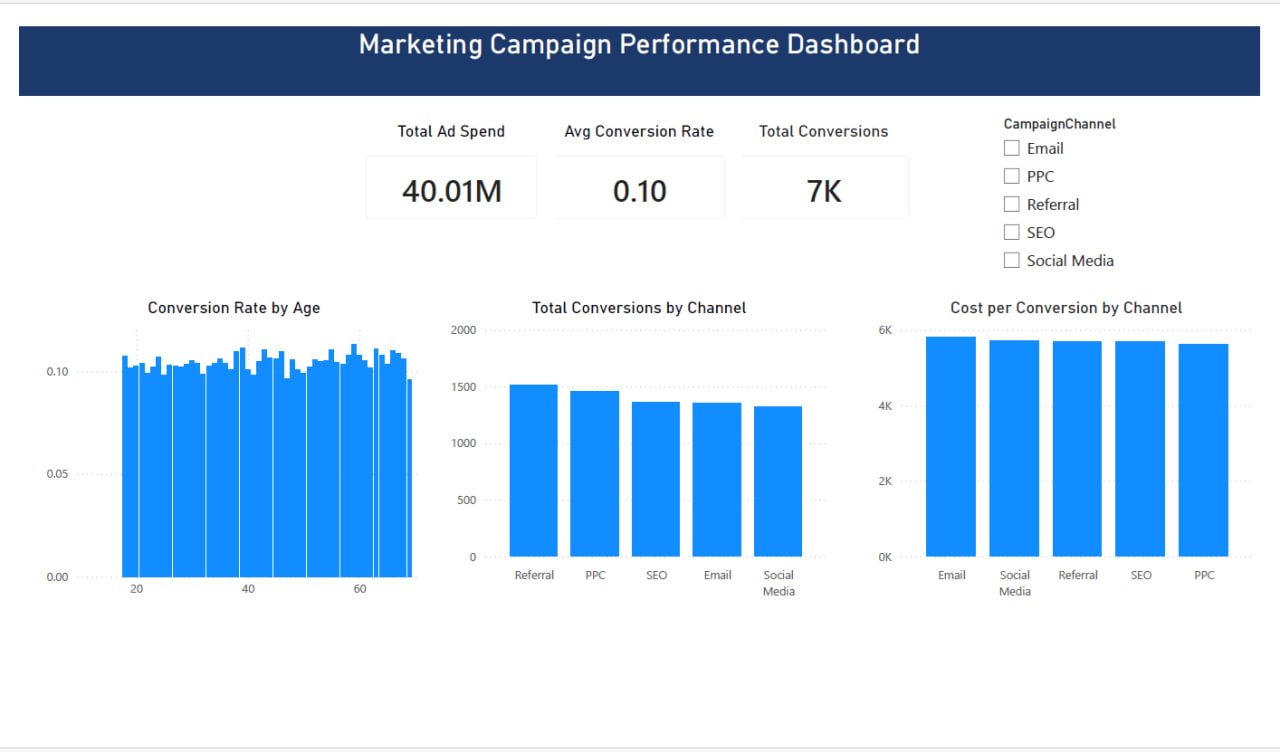

The page's visual inventory and layout, read from the dashboard file:
{"tool":"powerbi","page":{"name":"Page 1","canvas":[1280,720],"ordinal":0},"visuals":[{"type":"clusteredColumnChart","title":"Total Conversions by Channel","fields":{"Category":["marketing_campaign_clean.CampaignChannel"],"Y":["Sum(marketing_campaign_clean.Conversion)"]},"box":[439.5,280,399.5,317.6],"z":0},{"type":"clusteredColumnChart","title":"Cost per Conversion by Channel","fields":{"Category":["marketing_campaign_clean.CampaignChannel"],"Y":["marketing_campaign_clean.Cost_per_Conversion"]},"box":[880.5,280,399.5,317.6],"z":1000},{"type":"clusteredColumnChart","title":"Conversion Rate by Age","fields":{"Category":["marketing_campaign_clean.Age"],"Y":["Avg(marketing_campaign_clean.ConversionRate)"]},"box":[21.7,280,399.5,317.6],"z":2000},{"type":"cardVisual","title":"Total Conversions","fields":{"Data":["Sum(marketing_campaign_clean.Conversion)"]},"box":[724.4,97.5,211.3,118.5],"z":3000},{"type":"cardVisual","title":"Avg Conversion Rate","fields":{"Data":["Avg(marketing_campaign_clean.ConversionRate)"]},"box":[533.8,97.5,211.3,118.5],"z":4000},{"type":"cardVisual","title":"Total Ad Spend","fields":{"Data":["Sum(marketing_campaign_clean.AdSpend)"]},"box":[339.6,97.5,211.3,118.5],"z":5000},{"type":"slicer","fields":{"Values":["marketing_campaign_clean.CampaignChannel"]},"box":[1002.9,86.7,151.5,179.6],"z":6000},{"type":"textbox","title":"Marketing Campaign Performance Dashboard","box":[0,0,1280.2,70.9],"z":7000}]}

Visuals, with their boxes on the page's 1280x720 design canvas (x1, y1, x2, y2). These are canvas units, not pixel positions in the 1280x752 screenshot, which may show the page scaled, cropped or inside an application window:
"Total Conversions by Channel" clusteredColumnChart: l=440, t=280, r=839, b=598
"Cost per Conversion by Channel" clusteredColumnChart: l=880, t=280, r=1280, b=598
"Conversion Rate by Age" clusteredColumnChart: l=22, t=280, r=421, b=598
"Total Conversions" cardVisual: l=724, t=98, r=936, b=216
"Avg Conversion Rate" cardVisual: l=534, t=98, r=745, b=216
"Total Ad Spend" cardVisual: l=340, t=98, r=551, b=216
slicer - marketing_campaign_clean.CampaignChannel: l=1003, t=87, r=1154, b=266
"Marketing Campaign Performance Dashboard" textbox: l=0, t=0, r=1280, b=71
